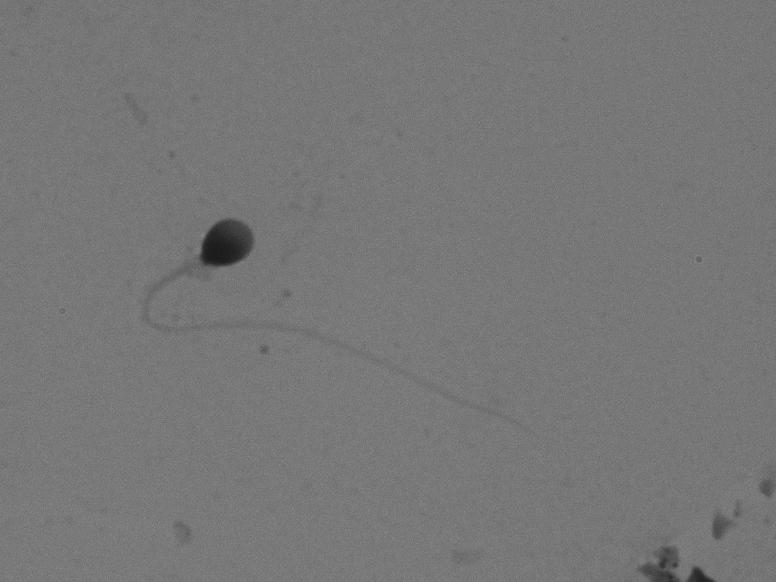Normal: (75, 205, 566, 463)
